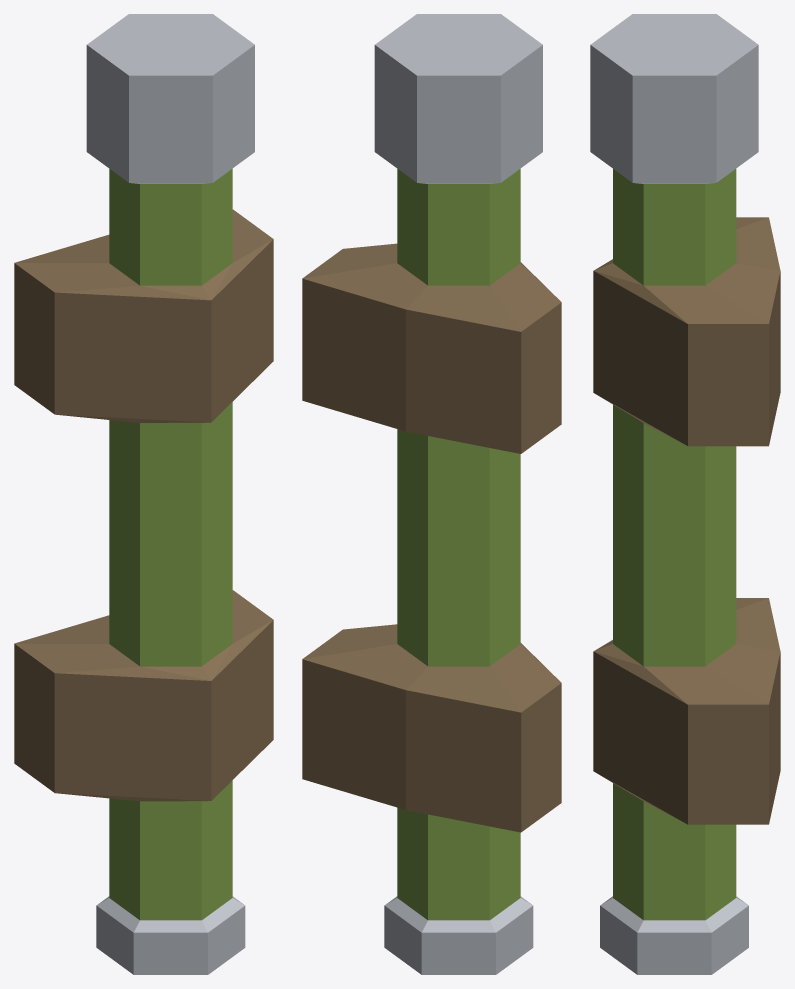
The model's file is SM_Chr_Attach_Glowstick_01.fbx.
3 views of the same model, side by side, from view 1: azimuth 30°, elevation 25°; view 2: azimuth 150°, elevation 25°; view 3: azimuth 270°, elevation 25° (orthographic).
Visible parts, largest first — view 1: SM_Chr_Attach_Glowstick_01; view 2: SM_Chr_Attach_Glowstick_01; view 3: SM_Chr_Attach_Glowstick_01.
Part boxes in pixels (left/top/right/bottom): SM_Chr_Attach_Glowstick_01: left=14, top=14, right=273, bottom=974; SM_Chr_Attach_Glowstick_01: left=302, top=14, right=561, bottom=974; SM_Chr_Attach_Glowstick_01: left=590, top=14, right=780, bottom=974.
Bounding box in the file's own units: 4.51 × 17.76 × 3.39.
